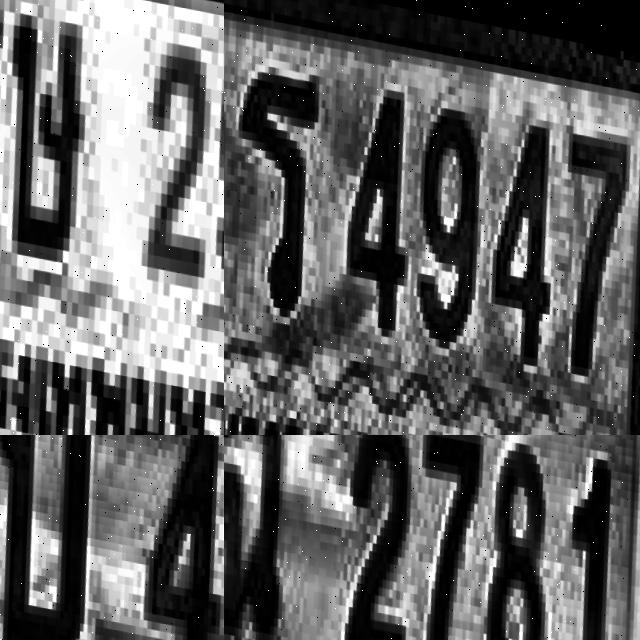license-plate: (224, 0, 640, 435), (0, 0, 224, 435), (224, 435, 640, 640), (0, 435, 224, 640)
